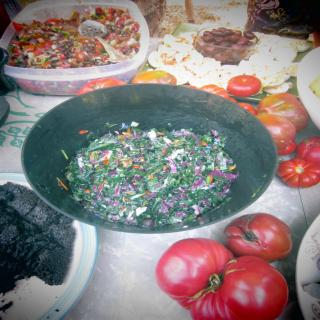tomato: (152, 236, 288, 320), (228, 217, 296, 261), (257, 111, 302, 164), (257, 95, 309, 134), (277, 158, 320, 187), (78, 76, 123, 95), (227, 74, 261, 98), (130, 68, 176, 85), (298, 136, 319, 166)
